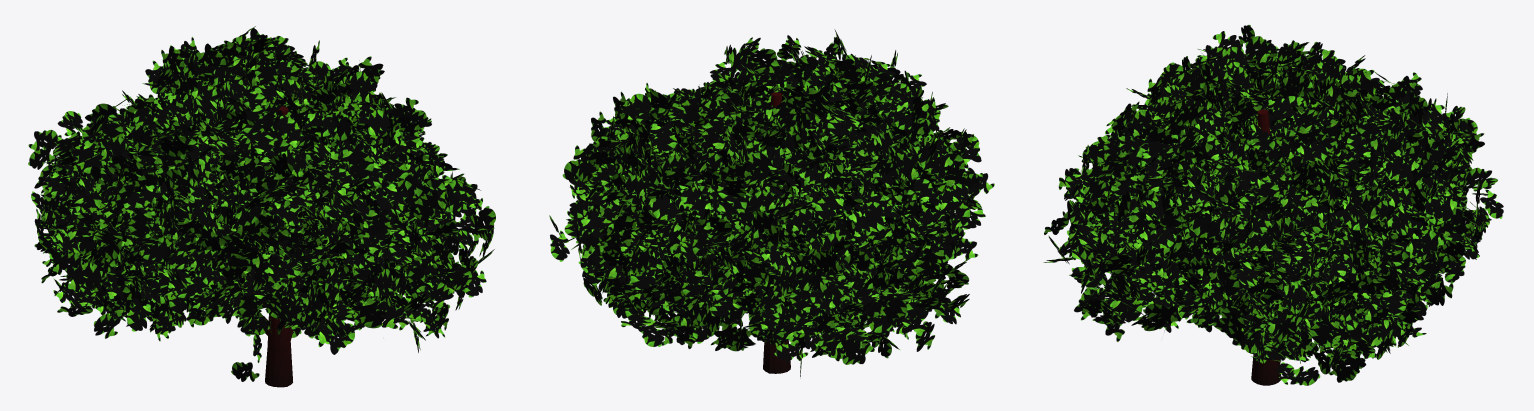
Rendered from understory_laurel_v01.glb.
The picture shows the model from 3 angles, left to right: view 1: azimuth 30°, elevation 25°; view 2: azimuth 150°, elevation 25°; view 3: azimuth 270°, elevation 25°; orthographic projection.
Parts seen in each view (by area): view 1: understory_laurel_v01; view 2: understory_laurel_v01; view 3: understory_laurel_v01.
Part boxes in pixels (x1=…): understory_laurel_v01: x1=28, y1=26, x2=495, y2=387; understory_laurel_v01: x1=549, y1=29, x2=994, y2=376; understory_laurel_v01: x1=1043, y1=24, x2=1503, y2=385.
Bounding box in the file's own units: 8.72 × 6.82 × 9.03.
2 materials, 2 textured.
